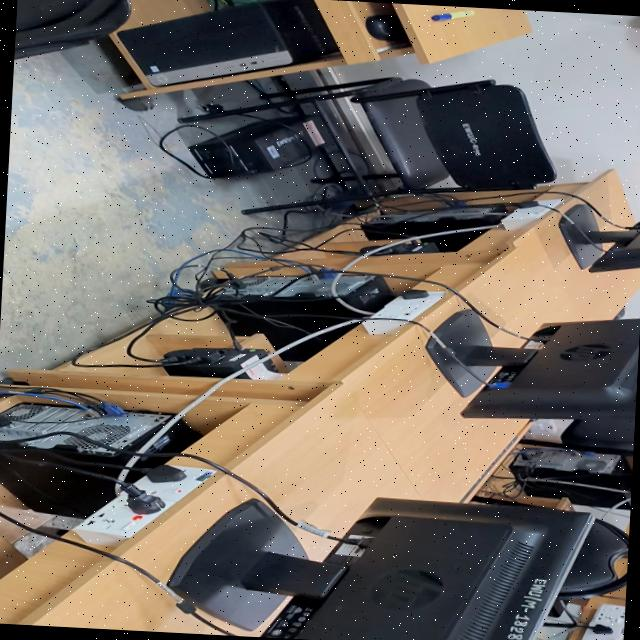Chair: (352, 79, 555, 193), (13, 0, 130, 60), (558, 518, 629, 601), (561, 418, 635, 456)
Cpu: (0, 405, 199, 518), (118, 0, 336, 86), (225, 277, 353, 346), (509, 449, 633, 509), (362, 208, 505, 251), (281, 326, 350, 361), (335, 276, 392, 311), (274, 316, 342, 332)
Monitor: (186, 498, 591, 640), (425, 310, 640, 420), (559, 204, 640, 272)
Mouse: (365, 14, 409, 44)
